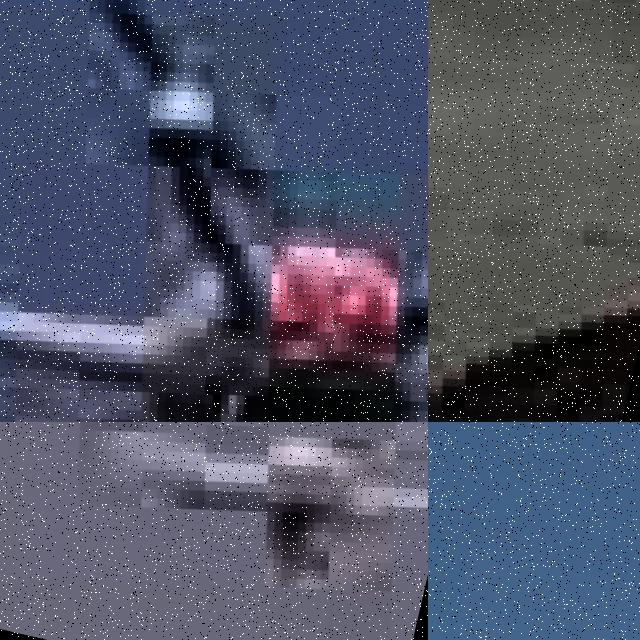drone: (0, 0, 428, 422), (0, 422, 428, 640), (428, 0, 640, 422)
